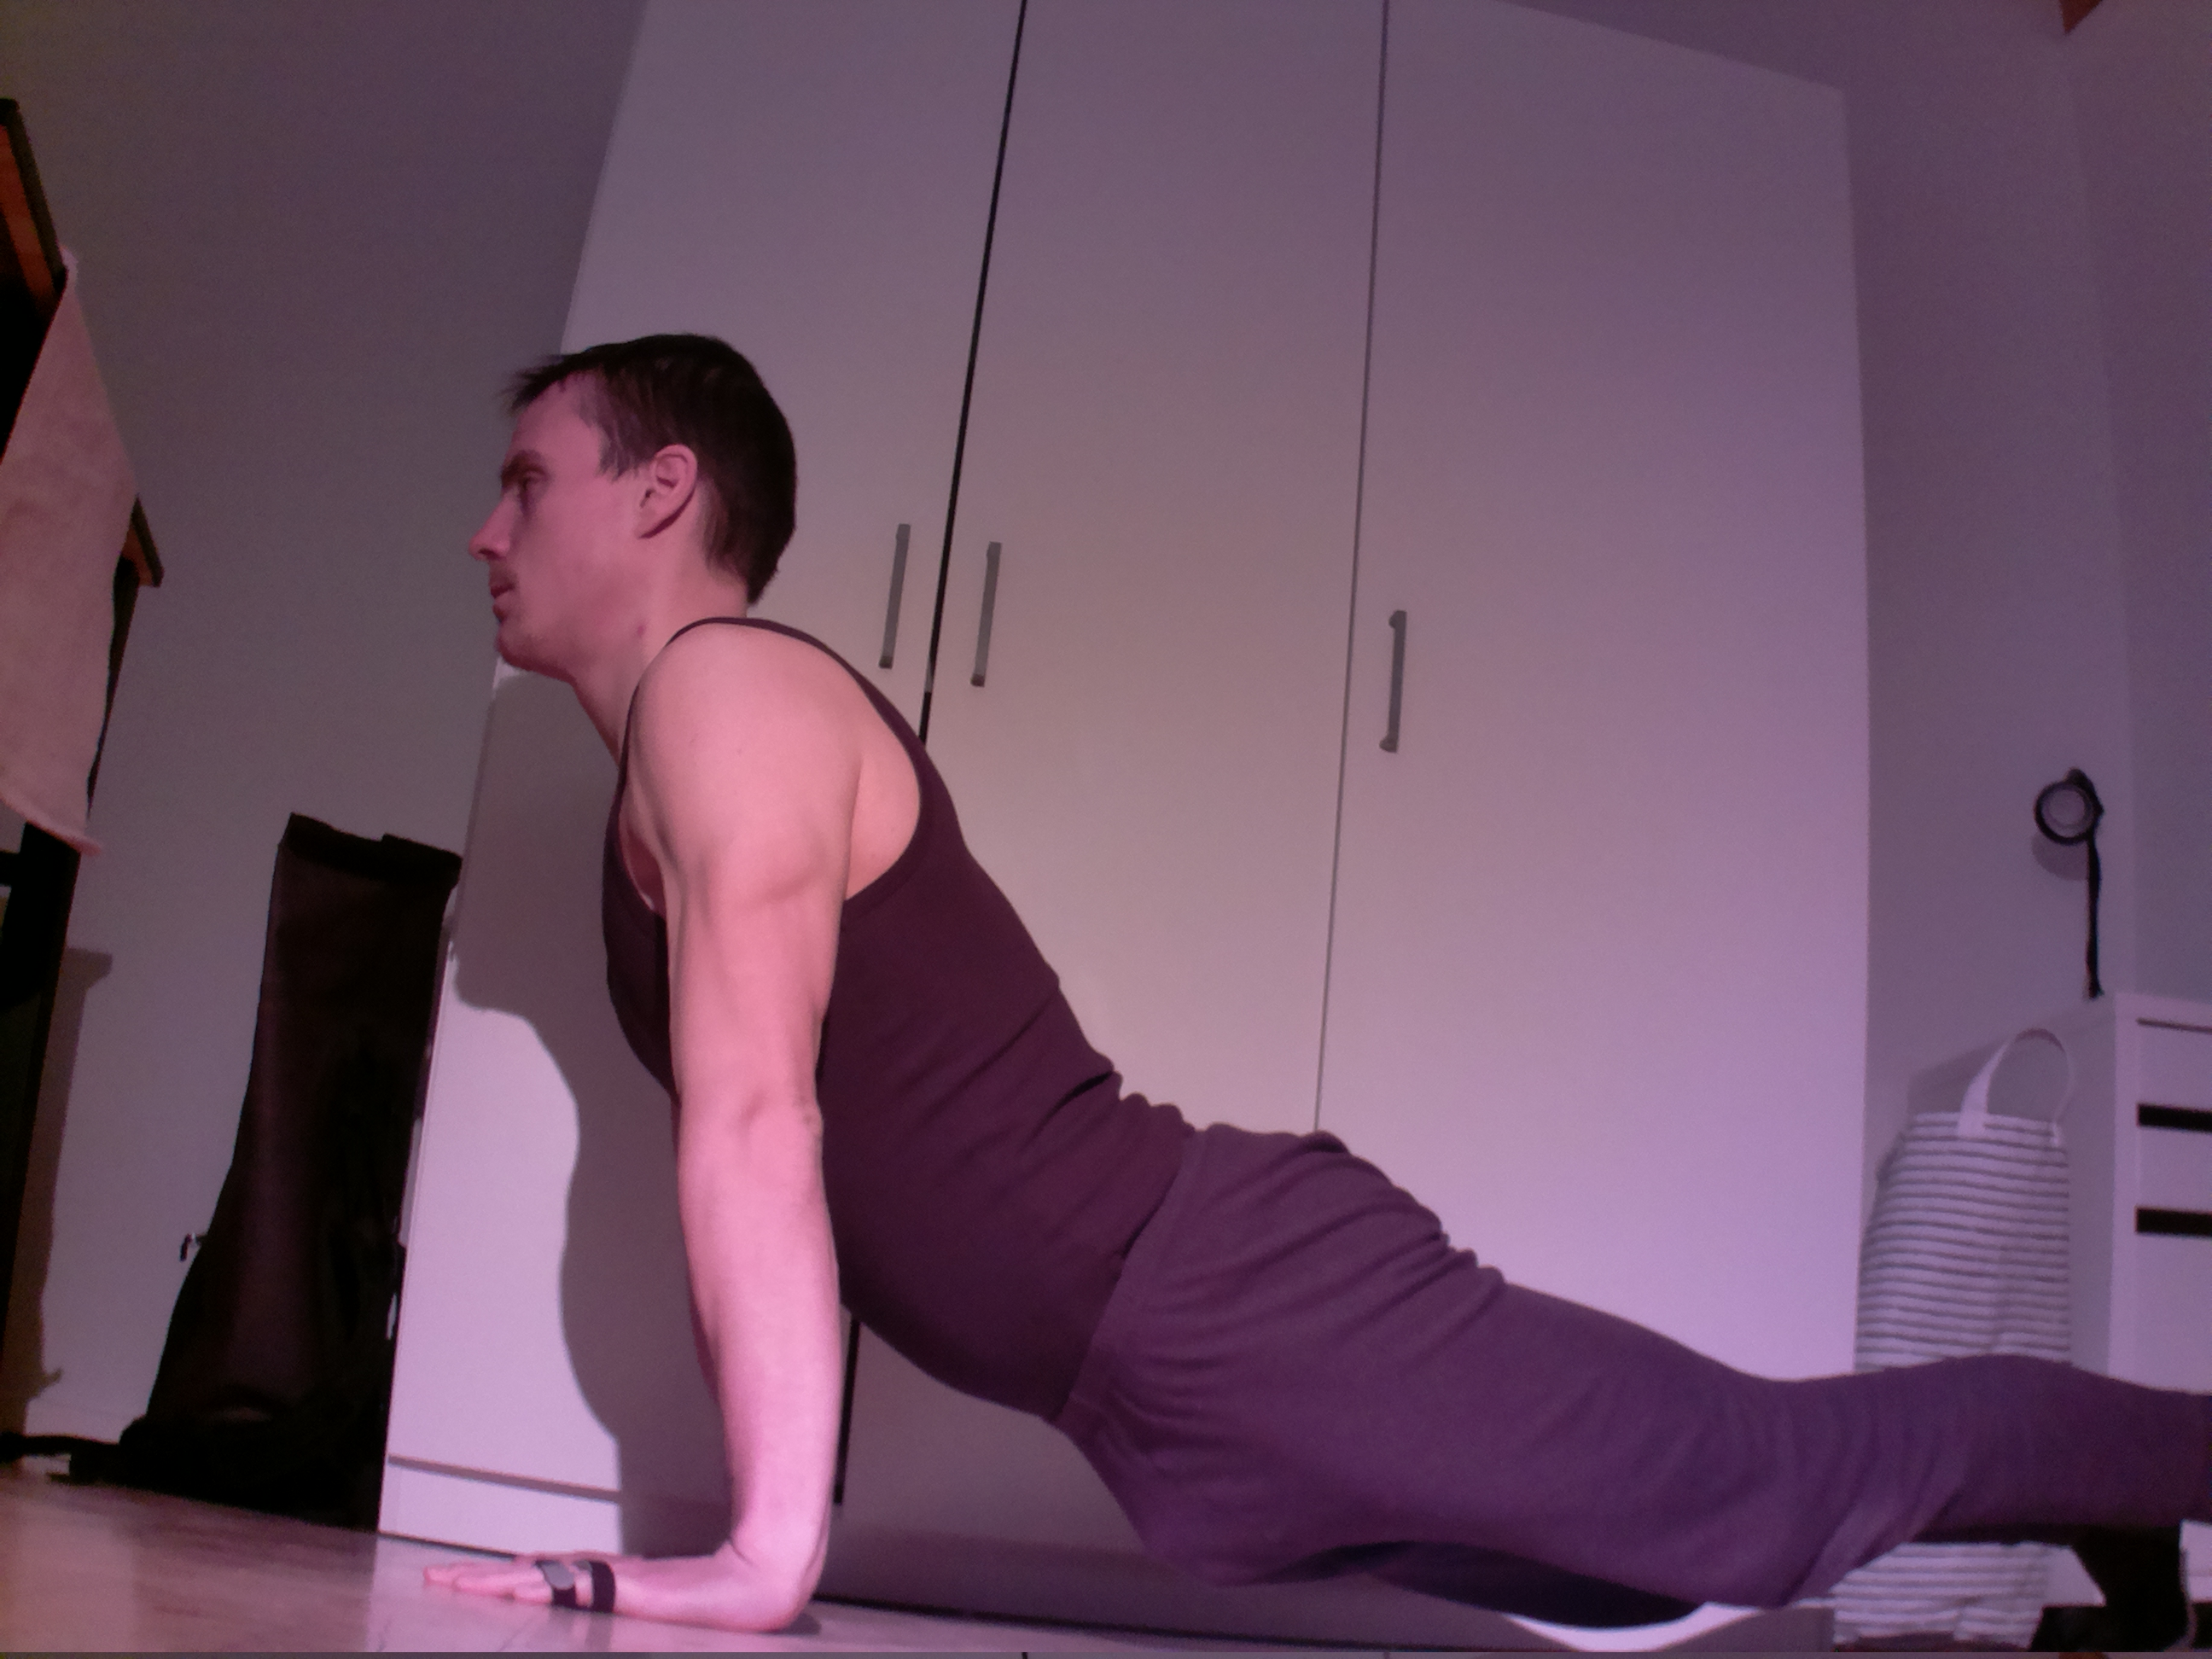CONAN: (399, 308, 1364, 1642)
